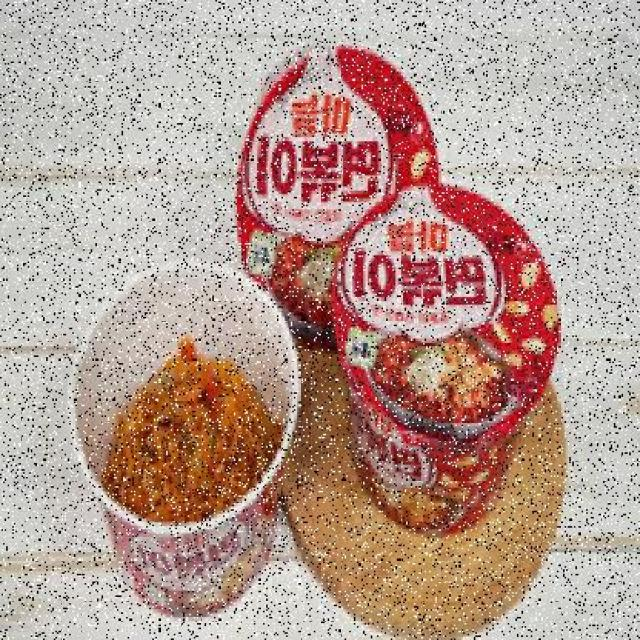Miscellaneous: (60, 262, 294, 600), (341, 180, 568, 526)
